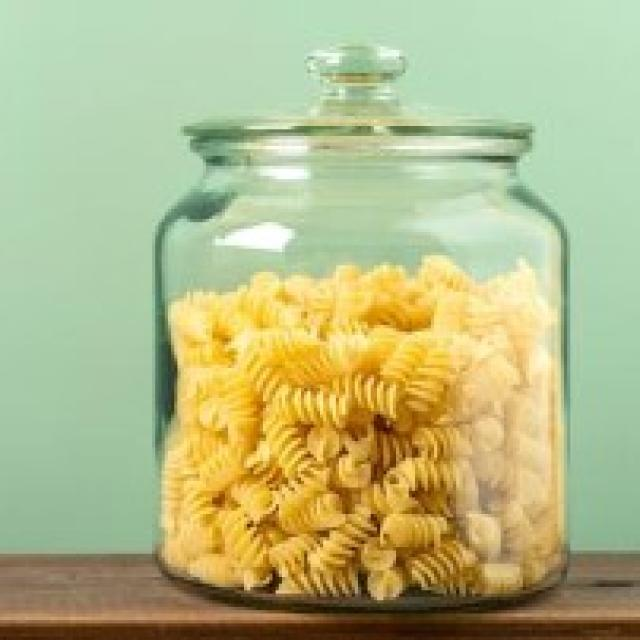electronic: (150, 40, 571, 613)
